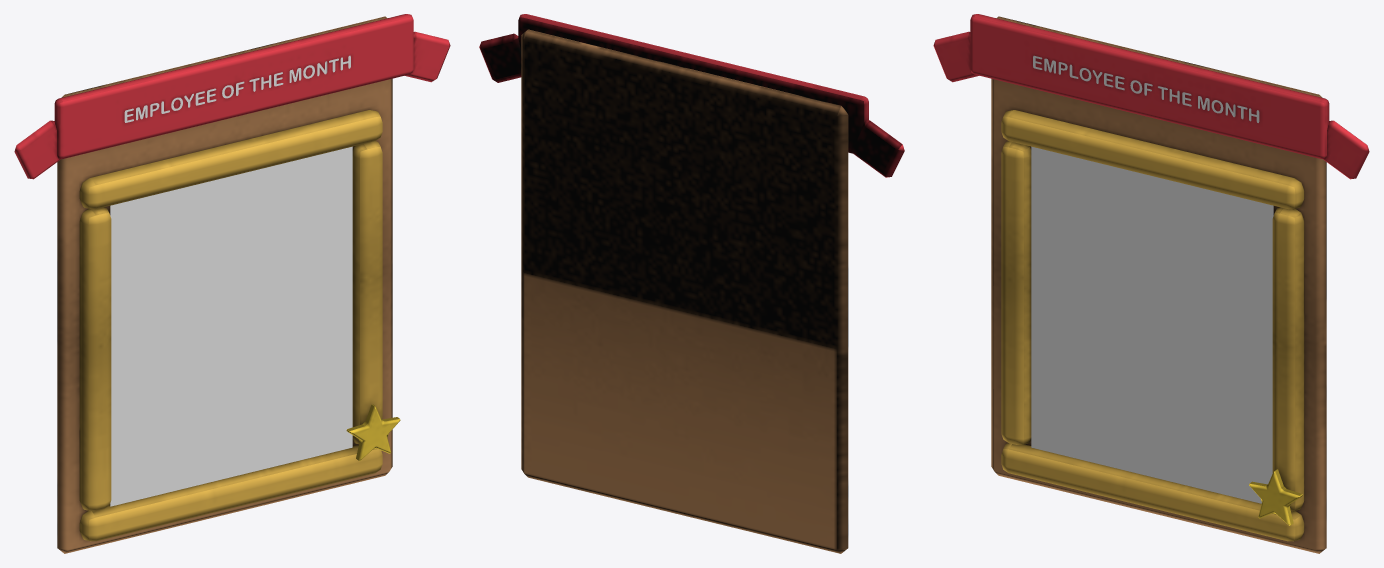
Rendered from employee_of_month.glb.
3 views of the same model, side by side, from view 1: azimuth 30°, elevation 25°; view 2: azimuth 150°, elevation 25°; view 3: azimuth 330°, elevation 25° (orthographic). The views are drawn at different scales.
Parts seen in each view (by area): view 1: employee_of_month; view 2: employee_of_month; view 3: employee_of_month.
Part boxes in pixels (bbox=[...]): employee_of_month: bbox=[14, 14, 450, 553]; employee_of_month: bbox=[479, 14, 904, 553]; employee_of_month: bbox=[933, 14, 1369, 553].
Bounding box in the file's own units: 0.7555 × 0.77 × 0.068.
6 materials, 5 textured.
